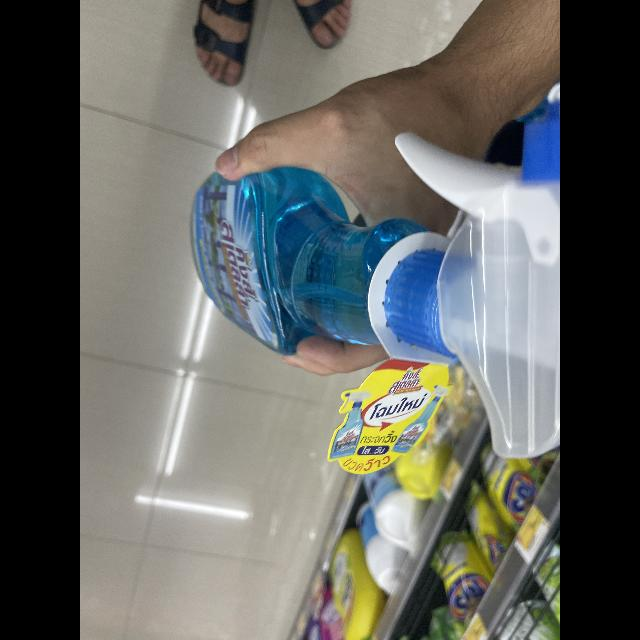chemical_plastic_bottle: (186, 112, 560, 468)
